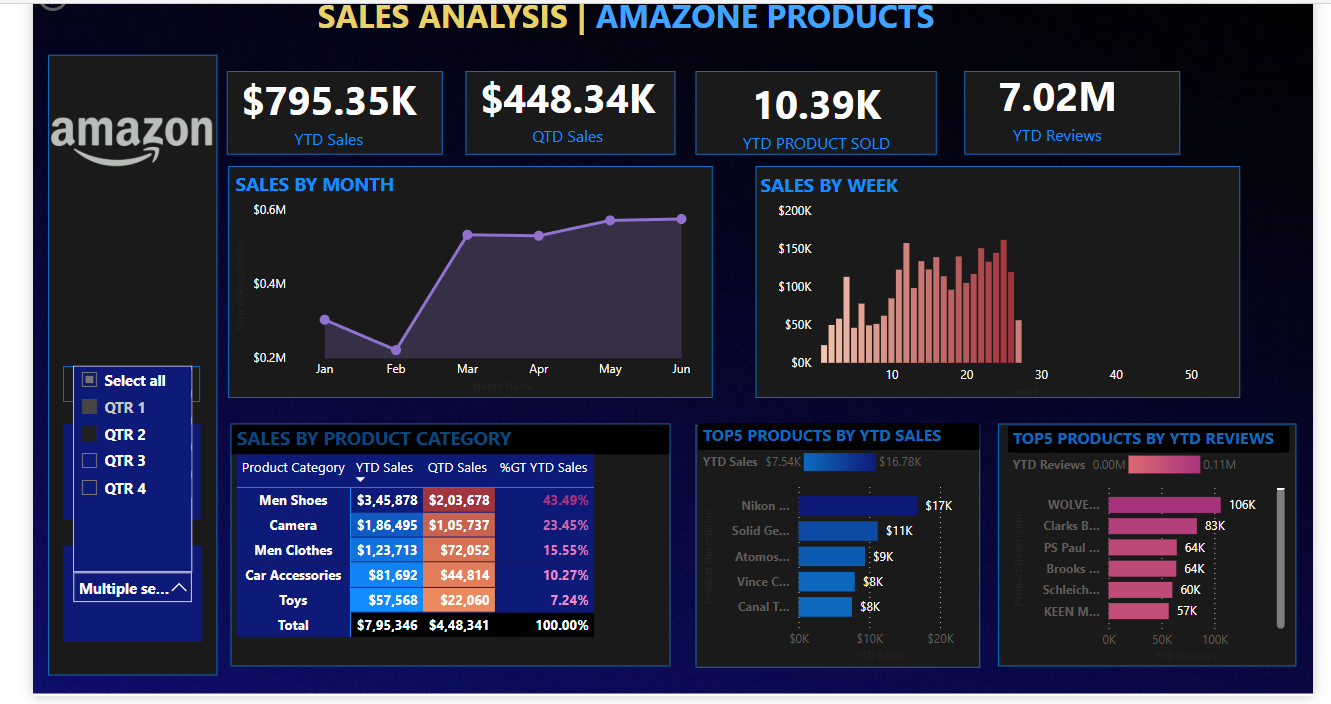

The page's visual inventory and layout, read from the dashboard file:
{"tool":"powerbi","page":{"name":"Page 1","canvas":[1280,720],"ordinal":0},"visuals":[{"type":"shape","box":[15.3,79.2,169.4,620.8],"z":0},{"type":"textbox","box":[50,12.5,1190.3,52.8],"z":1000},{"type":"shape","box":[193.8,95,216.2,83.8],"z":2000},{"type":"card","fields":{"Values":["Amazon_Data.YTD Sales"]},"box":[193.8,82.5,205,103.8],"z":3000},{"type":"shape","box":[931.2,95,216.2,83.8],"z":4000},{"type":"shape","box":[662.5,95,241.2,83.8],"z":5000},{"type":"shape","box":[432.5,95,210,83.8],"z":6000},{"type":"card","fields":{"Values":["Amazon_Data.QTD Sales"]},"box":[432.5,80,205,103.8],"z":7000},{"type":"card","fields":{"Values":["Amazon_Data.YTD PRODUCT SOLD"]},"box":[681.2,86.2,205,103.8],"z":8000},{"type":"card","fields":{"Values":["Amazon_Data.YTD Reviews"]},"box":[922.2,79.2,204.2,102.8],"z":9000},{"type":"shape","box":[194.4,190.3,484.7,231.9],"z":10000},{"type":"areaChart","title":"  SALES BY MONTH","fields":{"Category":["Data Table.Month Name"],"Y":["Sum(Amazon_Data.Price(Dollar))"]},"box":[197.2,194.4,484.7,226.4],"z":11000},{"type":"shape","box":[722.2,190.3,484.7,231.9],"z":12000},{"type":"columnChart","title":"SALES BY WEEK","fields":{"Category":["Data Table.week"],"Y":["Sum(Amazon_Data.Price(Dollar))"]},"box":[722.2,195.8,484.7,230.6],"z":13000},{"type":"shape","box":[197.2,447.2,440.3,243.1],"z":14000},{"type":"pivotTable","title":"SALES BY PRODUCT CATEGORY","fields":{"Rows":["Amazon_Data.Product Category"],"Values":["Amazon_Data.YTD Sales","Amazon_Data.QTD Sales","Divide(Amazon_Data.YTD Sales, ScopedEval(Amazon_Data.YTD Sales, []))"]},"box":[198.6,448.6,437.5,243.1],"z":15000},{"type":"actionButton","box":[0,0,100,40],"z":16000},{"type":"shape","box":[662.5,448.6,284.7,243.1],"z":17000},{"type":"shape","box":[965.3,447.2,298.6,243.1],"z":18000},{"type":"clusteredBarChart","title":"TOP5 PRODUCTS BY YTD SALES","fields":{"Category":["Amazon_Data.Product Description"],"Y":["Amazon_Data.YTD Sales"]},"box":[665.3,447.2,281.9,243.1],"z":19000},{"type":"clusteredBarChart","title":"TOP5 PRODUCTS BY YTD REVIEWS","fields":{"Category":["Amazon_Data.Product Description"],"Y":["Amazon_Data.YTD Reviews"]},"box":[975,450,281.9,241.7],"z":20000},{"type":"slicer","fields":{"Values":["Amazon_Data.Product Category"]},"box":[30.6,447.2,137.5,95.8],"z":21000},{"type":"slicer","fields":{"Values":["Data Table.qtr"]},"box":[30.6,569.4,138.9,95.8],"z":22000},{"type":"image","box":[4.2,19.4,194.4,300],"z":23000},{"type":"shape","box":[30.6,390.3,137.5,36.1],"z":24000}]}

Visuals, with their boxes on the page's 1280x720 design canvas (x1, y1, x2, y2). These are canvas units, not pixel positions in the 1331x704 screenshot, which may show the page scaled, cropped or inside an application window:
shape: box(15, 79, 185, 700)
textbox: box(50, 12, 1240, 65)
shape: box(194, 95, 410, 179)
card - Amazon_Data.YTD Sales: box(194, 82, 399, 186)
shape: box(931, 95, 1147, 179)
shape: box(662, 95, 904, 179)
shape: box(432, 95, 642, 179)
card - Amazon_Data.QTD Sales: box(432, 80, 638, 184)
card - Amazon_Data.YTD PRODUCT SOLD: box(681, 86, 886, 190)
card - Amazon_Data.YTD Reviews: box(922, 79, 1126, 182)
shape: box(194, 190, 679, 422)
"  SALES BY MONTH" areaChart: box(197, 194, 682, 421)
shape: box(722, 190, 1207, 422)
"SALES BY WEEK" columnChart: box(722, 196, 1207, 426)
shape: box(197, 447, 638, 690)
"SALES BY PRODUCT CATEGORY" pivotTable: box(199, 449, 636, 692)
actionButton: box(0, 0, 100, 40)
shape: box(662, 449, 947, 692)
shape: box(965, 447, 1264, 690)
"TOP5 PRODUCTS BY YTD SALES" clusteredBarChart: box(665, 447, 947, 690)
"TOP5 PRODUCTS BY YTD REVIEWS" clusteredBarChart: box(975, 450, 1257, 692)
slicer - Amazon_Data.Product Category: box(31, 447, 168, 543)
slicer - Data Table.qtr: box(31, 569, 170, 665)
image: box(4, 19, 199, 319)
shape: box(31, 390, 168, 426)
